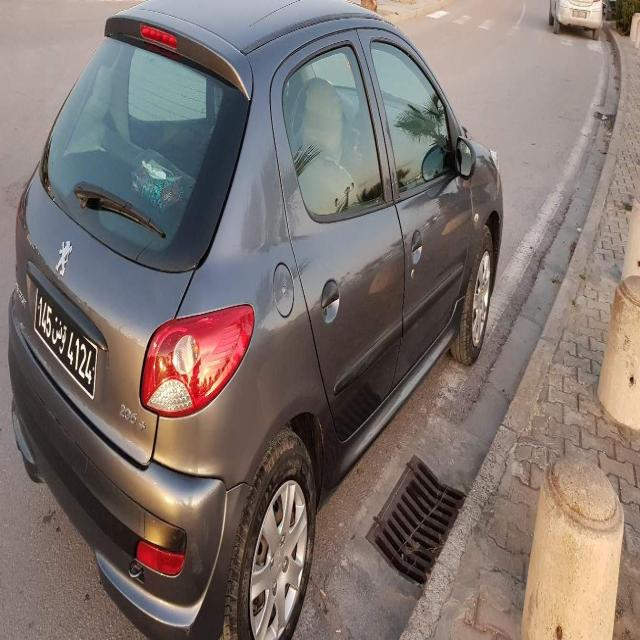LP: (33, 279, 96, 398)
